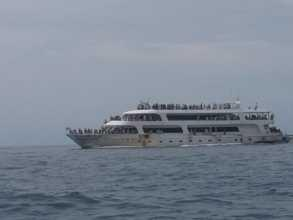yacht: (63, 90, 293, 147)
